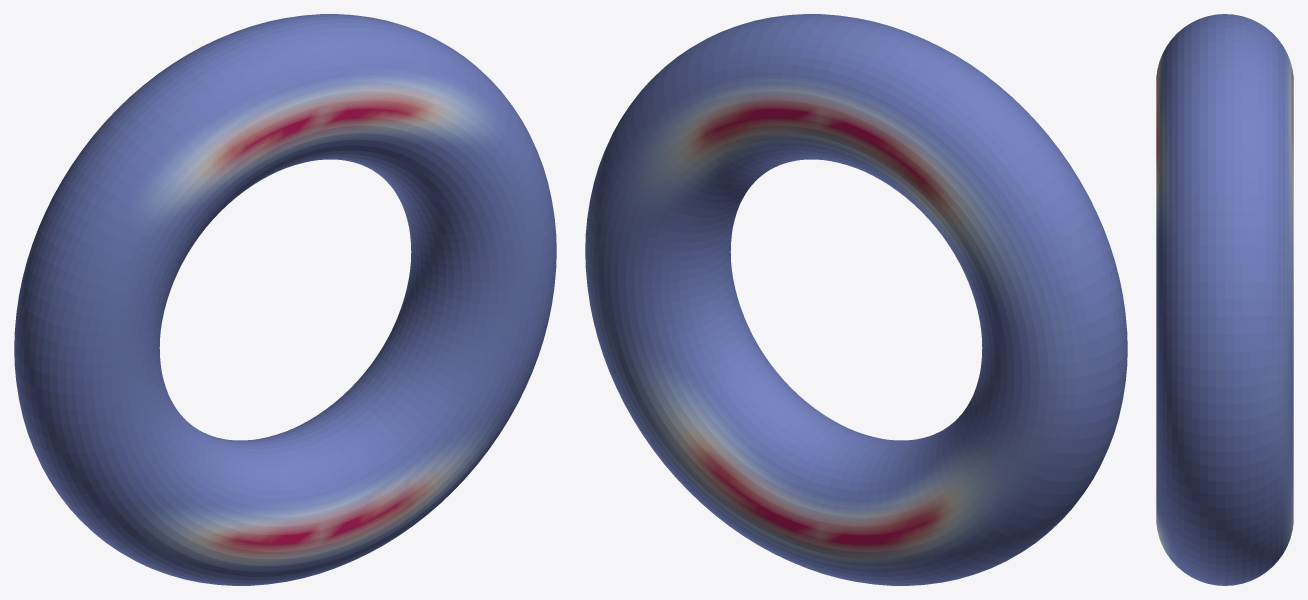
3 views of the same model, side by side, from view 1: azimuth 30°, elevation 25°; view 2: azimuth 150°, elevation 25°; view 3: azimuth 270°, elevation 25° (orthographic). The views are drawn at different scales.
Visible parts, largest first — view 1: world; view 2: world; view 3: world.
Boxes of the visible parts, x1,y1,x2,y2 form: world: [14, 14, 556, 585]; world: [585, 14, 1127, 585]; world: [1156, 14, 1293, 585].
Size of the model in its own units: 14.93 by 14.93 by 3.59.
